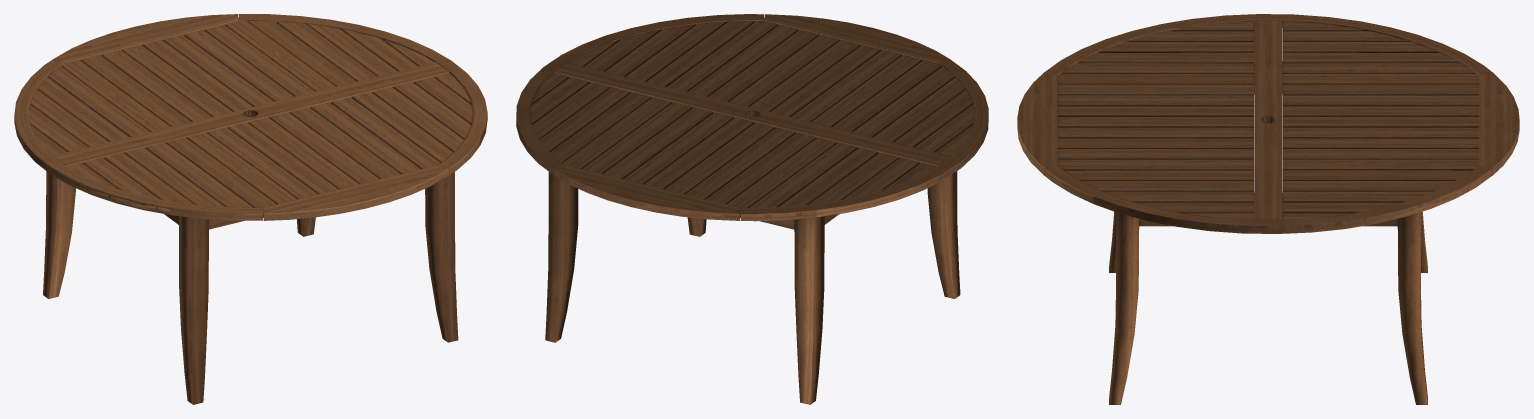
3 views of the same model, side by side, from view 1: azimuth 30°, elevation 25°; view 2: azimuth 150°, elevation 25°; view 3: azimuth 270°, elevation 25° (orthographic). The views are drawn at different scales.
Visible parts, largest first — view 1: HSM0022_Round_table_with_umbrella_Tan_v3; view 2: HSM0022_Round_table_with_umbrella_Tan_v3; view 3: HSM0022_Round_table_with_umbrella_Tan_v3.
Part boxes in pixels (bbox=[...]): HSM0022_Round_table_with_umbrella_Tan_v3: bbox=[14, 14, 487, 404]; HSM0022_Round_table_with_umbrella_Tan_v3: bbox=[516, 14, 988, 404]; HSM0022_Round_table_with_umbrella_Tan_v3: bbox=[1017, 14, 1519, 404].
Bounding box in the file's own units: 2.36 × 1.12 × 2.36.
1 material, 1 textured.
